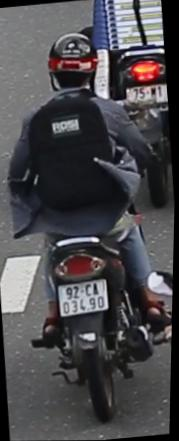LP: (54, 275, 115, 325)
helmet: (43, 28, 103, 93)
